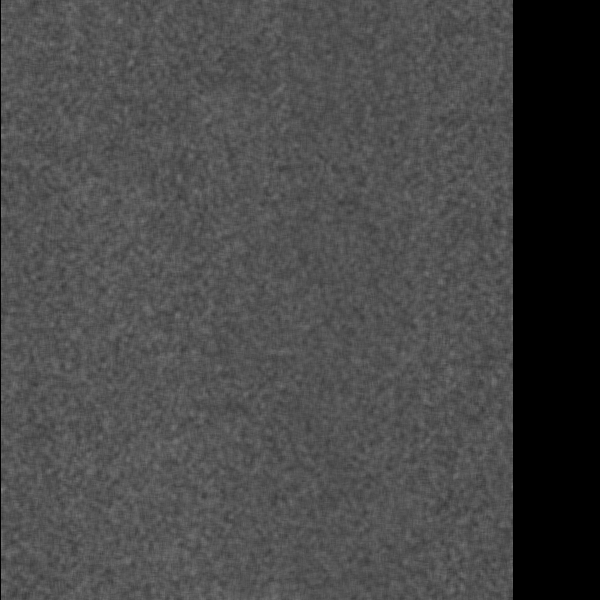spark: (454, 113, 497, 258), (30, 8, 72, 49), (301, 365, 334, 414), (391, 429, 432, 461), (213, 24, 240, 64)
